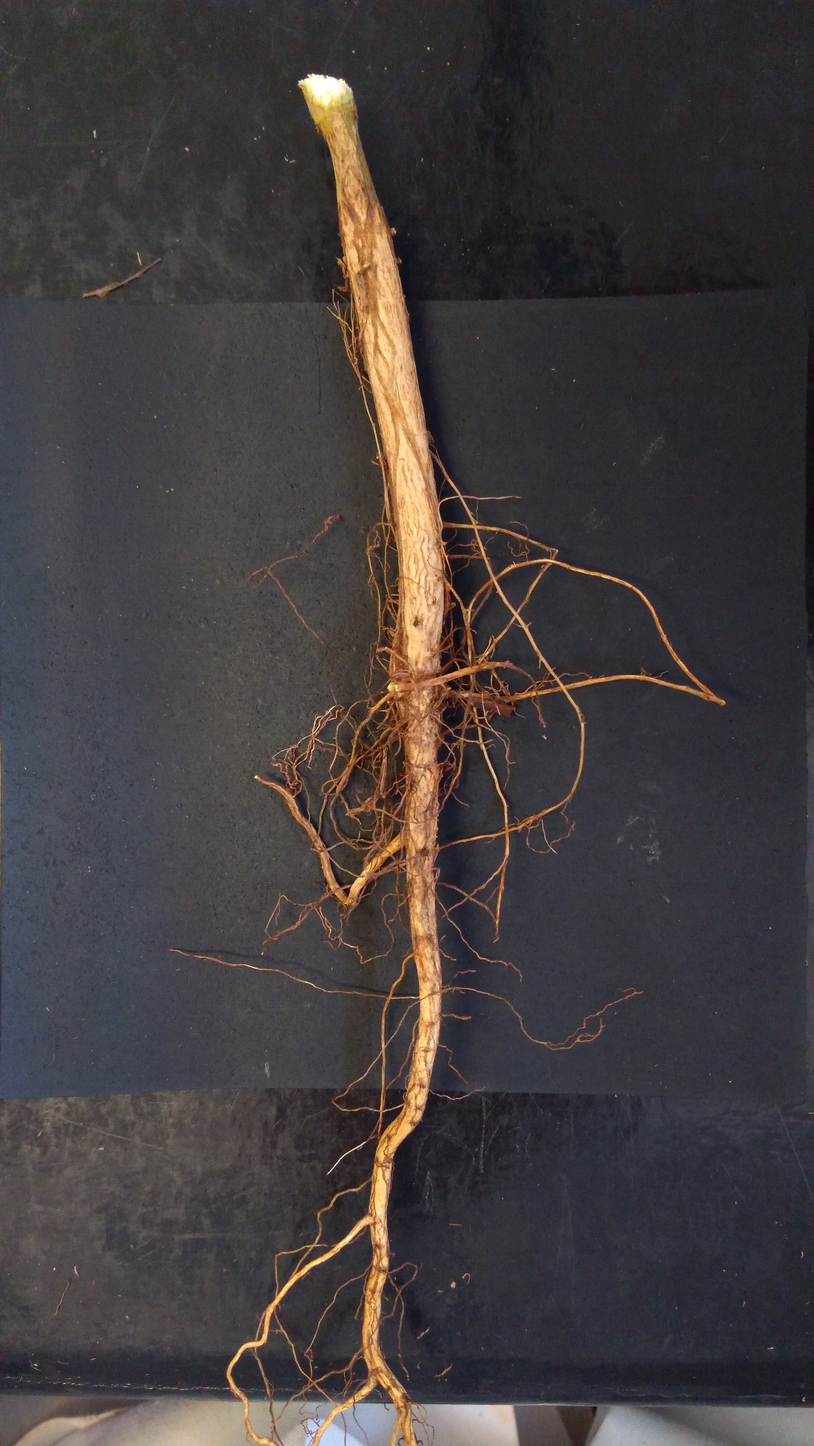nodule: (360, 798, 376, 813), (338, 277, 352, 292), (426, 429, 435, 446), (387, 680, 395, 692), (390, 227, 397, 237), (395, 257, 402, 265), (450, 1281, 456, 1288), (342, 256, 347, 264)
